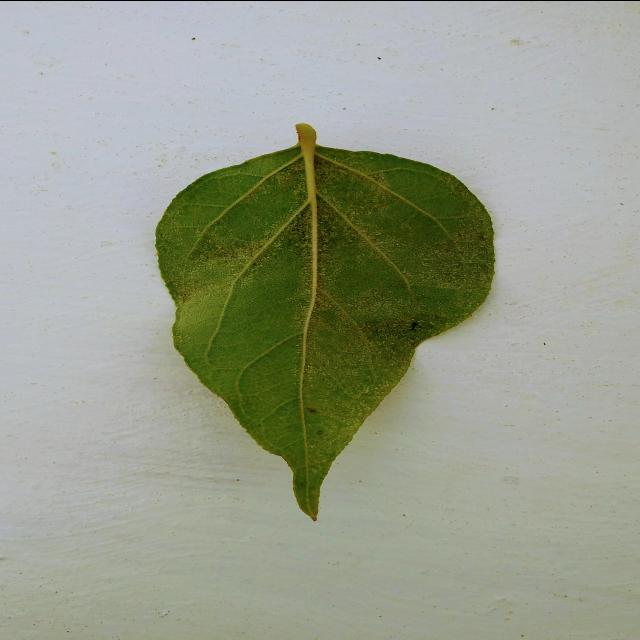leaf: (153, 122, 496, 521)
